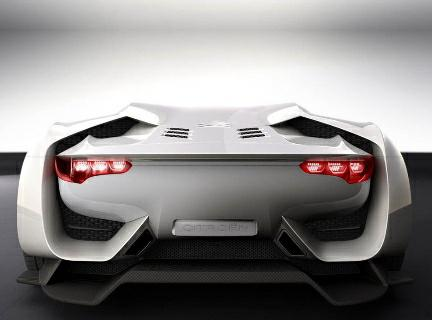雪铁龙-GT: (10, 97, 419, 310)
